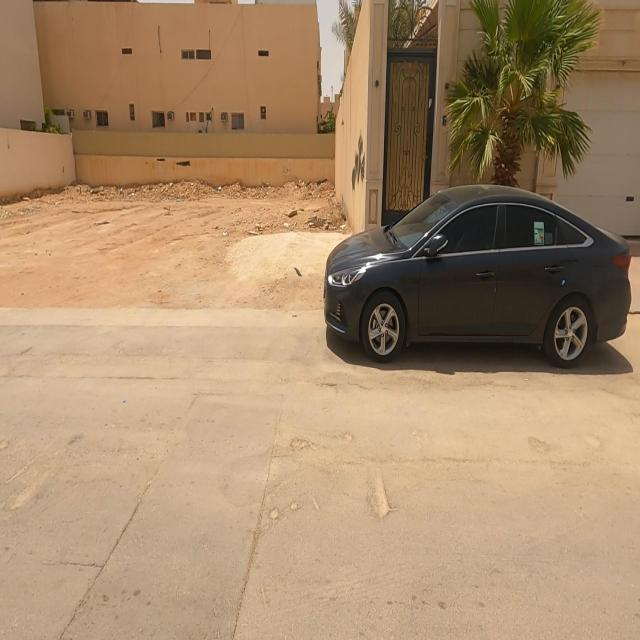Graffiti: (353, 132, 367, 194)
